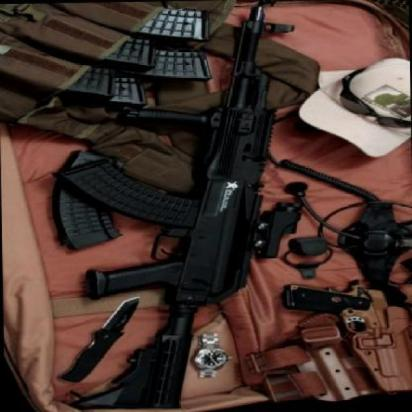Gun: (47, 5, 304, 409)
